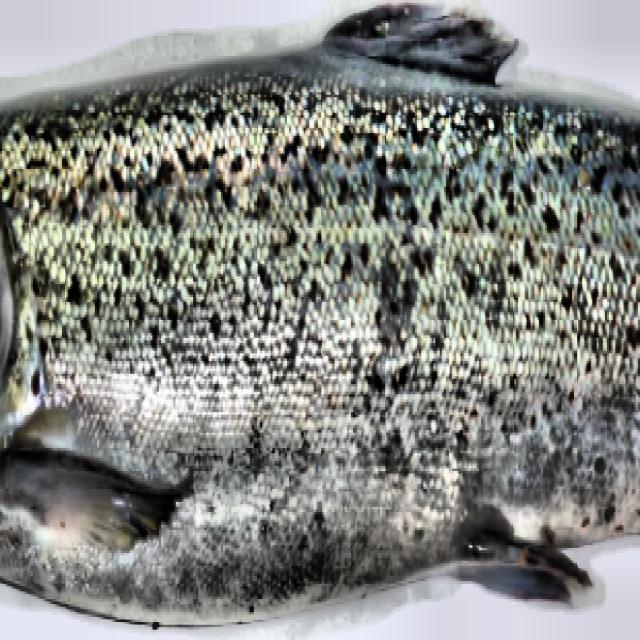mild_red: (0, 49, 639, 614)
